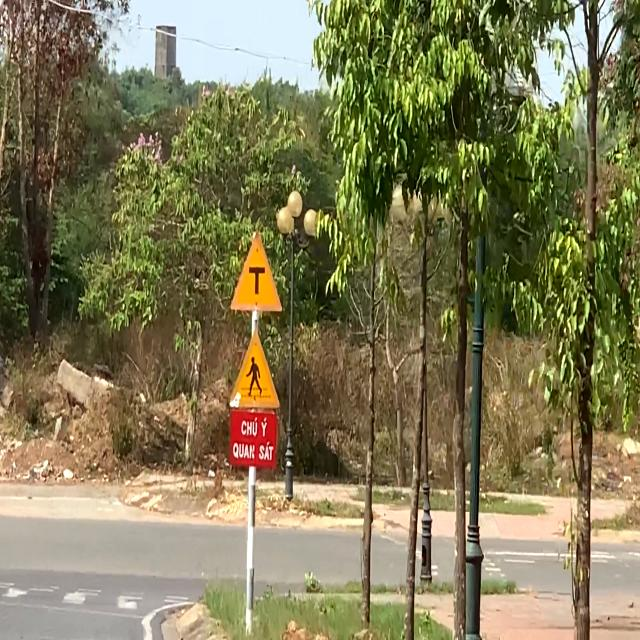W.205d: (226, 222, 286, 318)
W.224: (225, 322, 282, 412)
